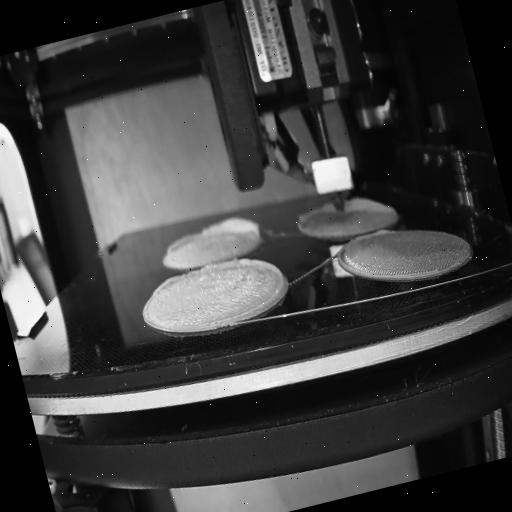over_extrusion: (193, 249, 291, 327), (200, 207, 264, 251), (343, 192, 394, 227), (162, 230, 199, 260), (150, 273, 187, 296), (296, 204, 334, 226), (368, 225, 392, 241)
